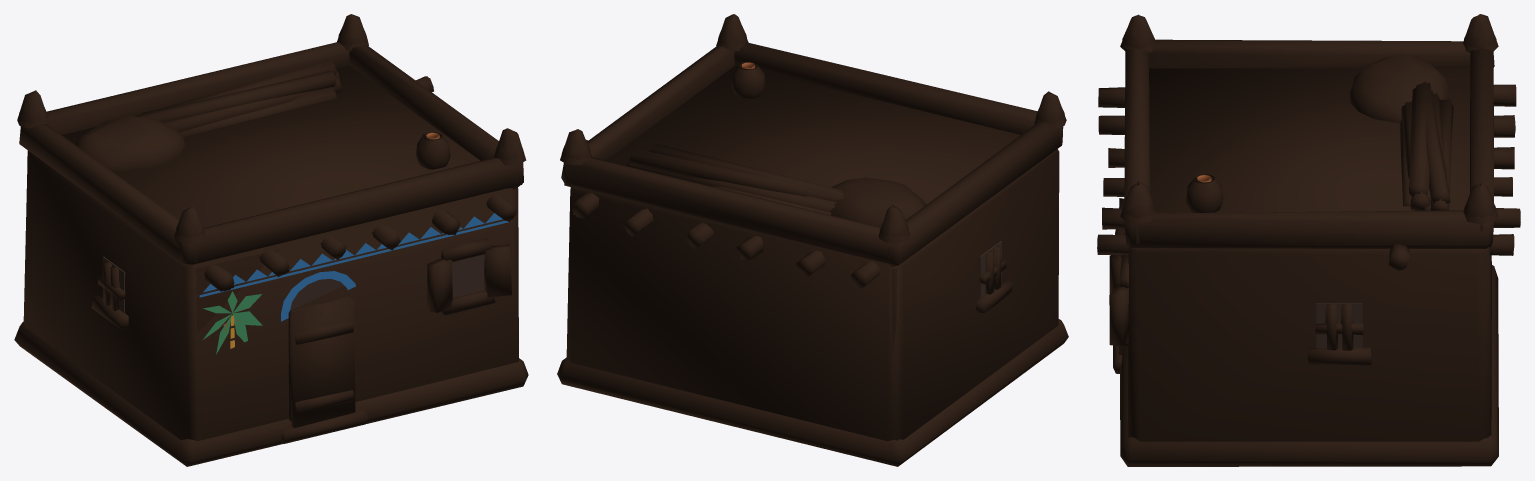
The model's file is house_a.glb.
3 views of the same model, side by side, from view 1: azimuth 30°, elevation 25°; view 2: azimuth 150°, elevation 25°; view 3: azimuth 270°, elevation 25° (orthographic). The views are drawn at different scales.
Visible parts, largest first — view 1: house_a_LOD1_outline, house_a_outline, house_a; view 2: house_a_LOD1_outline, house_a_outline; view 3: house_a_LOD1_outline, house_a_outline, house_a.
Part boxes in pixels (x1,y1,x2,y2): house_a_LOD1_outline: [14, 14, 528, 466]; house_a_outline: [19, 21, 524, 436]; house_a: [102, 132, 508, 354]; house_a_LOD1_outline: [557, 14, 1068, 466]; house_a_outline: [561, 19, 1064, 355]; house_a_LOD1_outline: [1097, 14, 1520, 466]; house_a_outline: [1097, 22, 1520, 437]; house_a: [1197, 175, 1362, 348].
Size of what is drawn, in the model's own units: 6.33 by 4.12 by 5.66.
